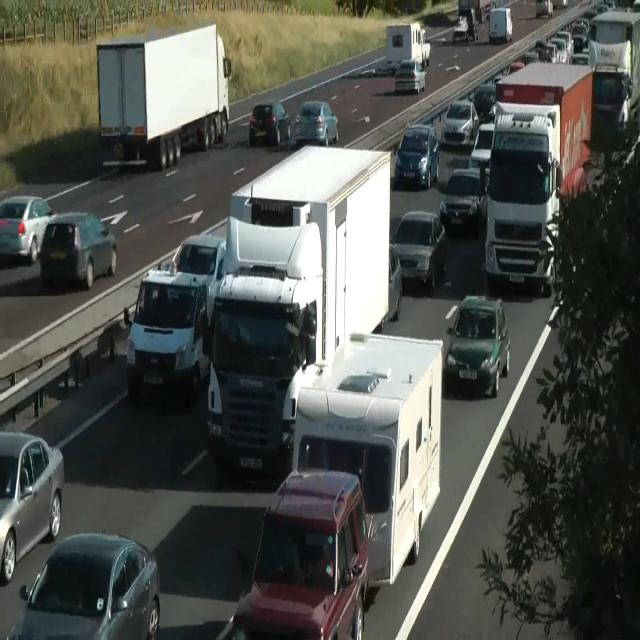bus: (8, 530, 160, 639), (0, 430, 64, 584), (444, 294, 510, 398), (0, 194, 52, 264), (168, 233, 225, 290), (439, 166, 486, 232), (394, 124, 440, 190), (293, 100, 339, 146), (249, 100, 291, 148), (443, 98, 479, 146), (382, 242, 402, 322), (468, 122, 494, 172), (394, 59, 426, 94), (468, 82, 496, 121), (180, 118, 210, 151), (545, 30, 573, 64), (570, 18, 590, 52), (452, 16, 468, 43), (389, 217, 401, 244), (536, 0, 553, 18)
car: (124, 141, 444, 591), (204, 216, 324, 477)
jeep: (228, 467, 370, 638), (123, 267, 209, 405), (39, 210, 117, 290), (391, 209, 446, 291)
minibus: (205, 144, 391, 478), (288, 332, 444, 586), (484, 61, 594, 296), (96, 22, 232, 171), (588, 6, 640, 136), (385, 21, 431, 74), (458, 0, 490, 43), (488, 6, 512, 44)
